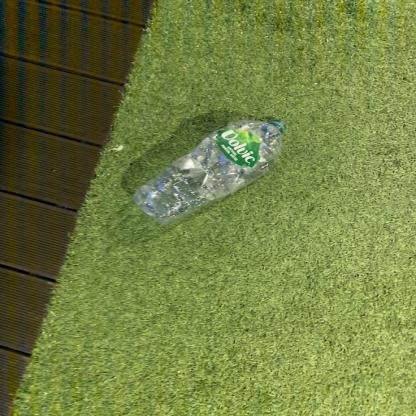trash: (128, 114, 295, 231)
